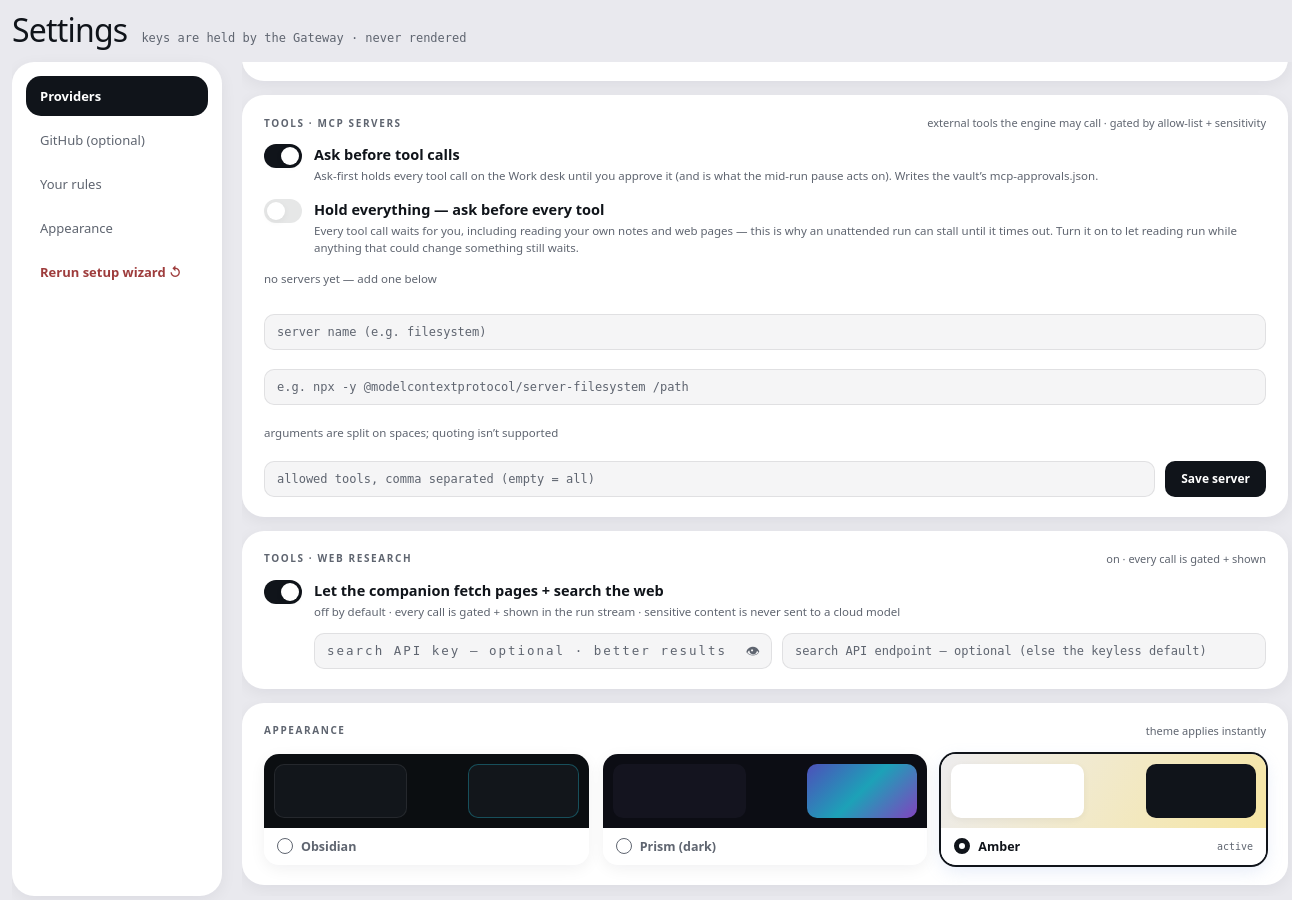
Test case: Settings — MCP servers section (native shell) › rejects an empty form with an honest inline message (no server added)
The width and height of the screenshot is (1292, 900).
(page scrolled)
Expected: the text "no servers yet — add one below" is shown, [264,271,437,286]
Click the button "Save server": {"x": 1216, "y": 479} [1165,461,1266,497]
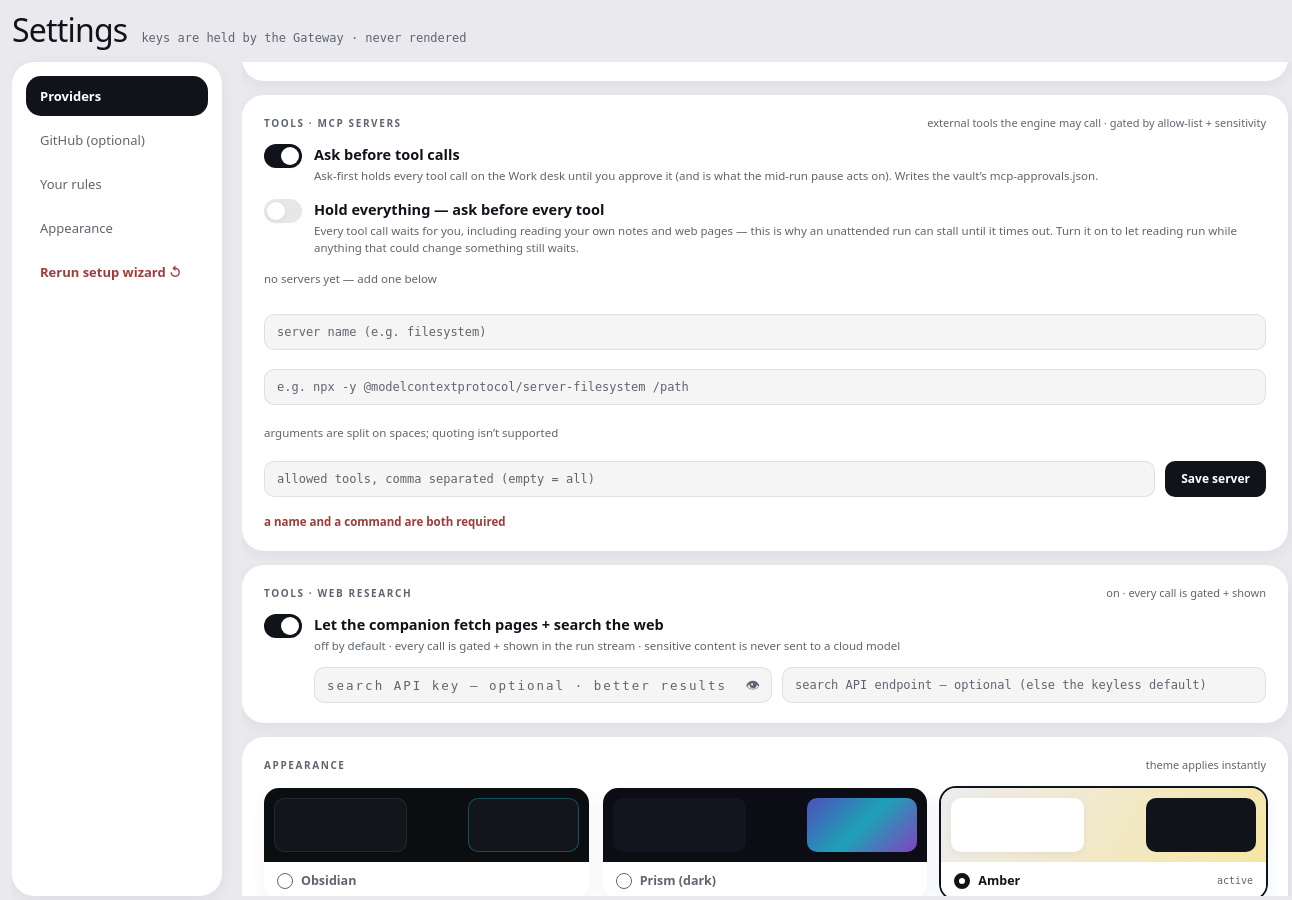
Expected: the text "a name and a command are both required" is shown, [264,514,506,529]
